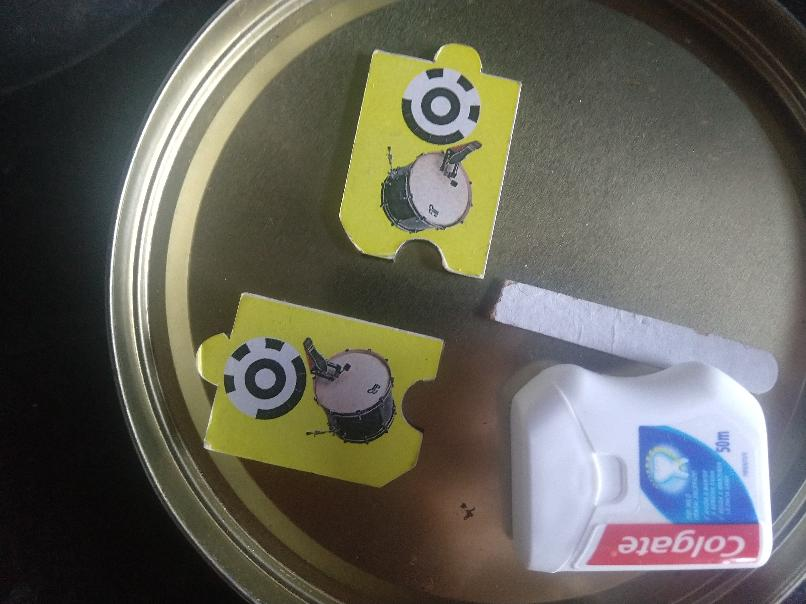bumbo: (194, 293, 444, 486), (340, 40, 523, 283)
